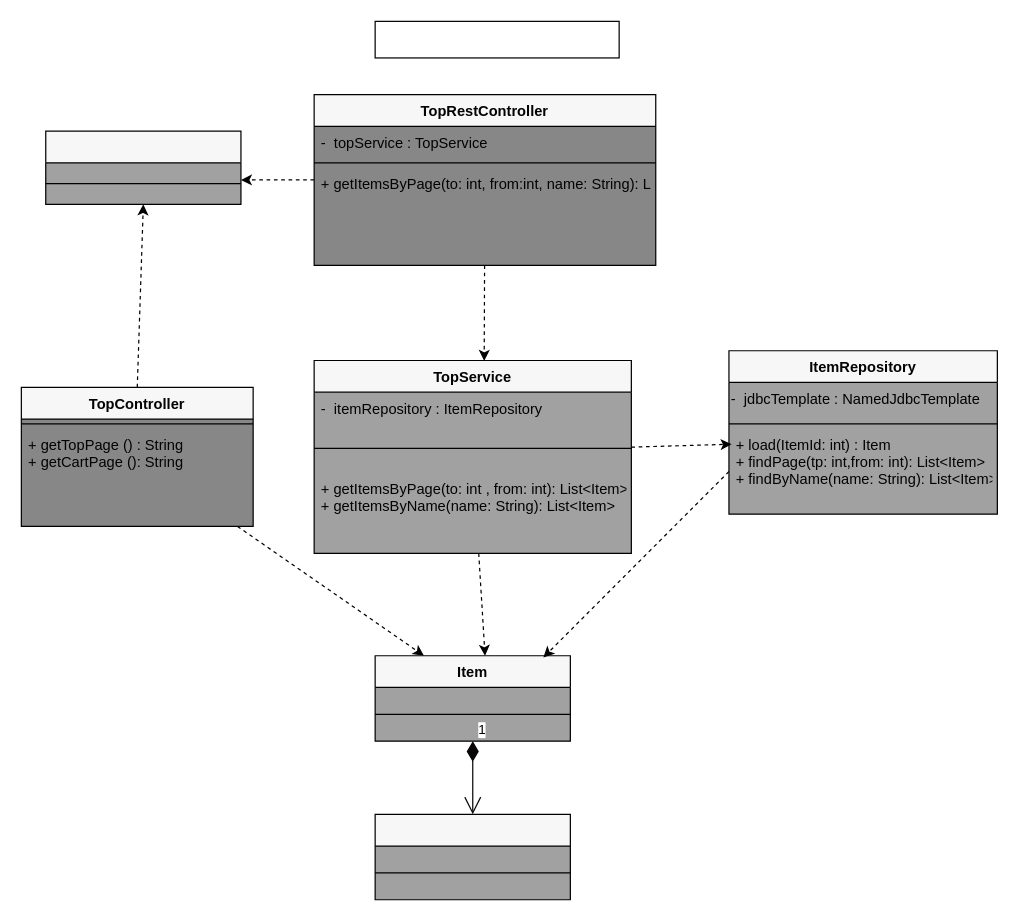
Image size: 1019x921. Some labels were removed from this diagram. Each missing label, with the centre of its shape:
"TopForm" goes at (143,167).
"Topping" goes at (472,856).
"アイテム表示を非同期処理で行いためにRestControllerを作成しました" goes at (496,39).
